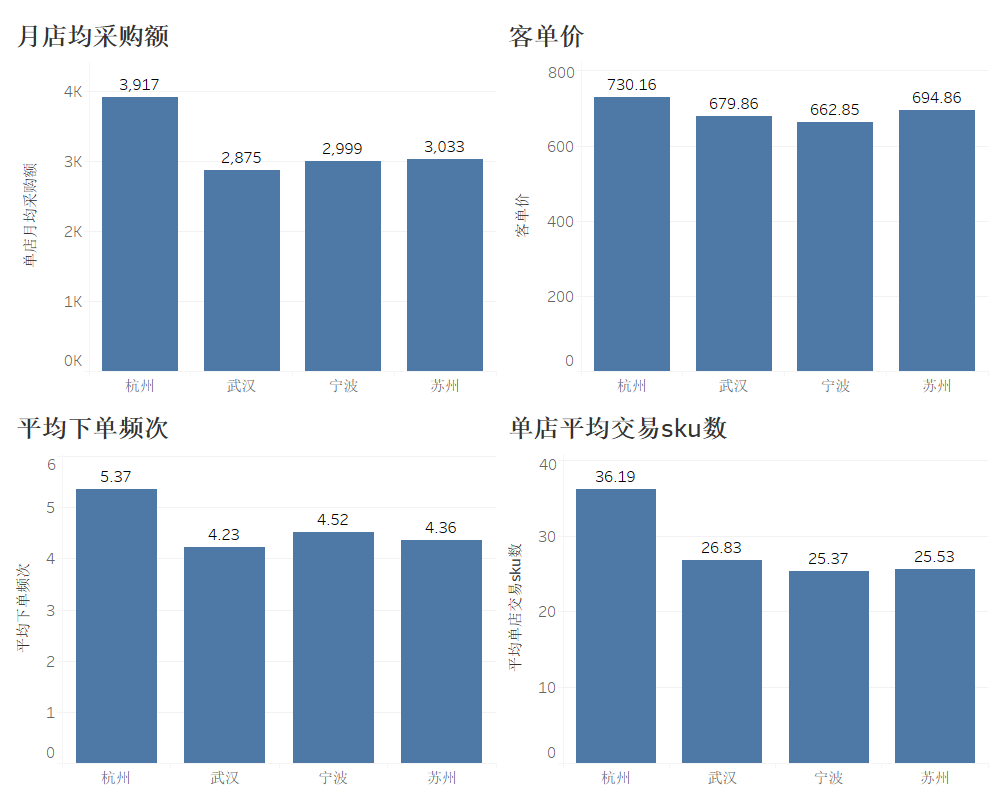

The page's visual inventory and layout, read from the dashboard file:
{"tool":"tableau","page":{"name":"总览","canvas":[1000,800],"ordinal":3},"visuals":[{"type":"worksheet","title":"总览-月店均采购额","mark":"Automatic","rows":["单店月均采购额"],"cols":["城市"],"box":[8,8,492,392]},{"type":"worksheet","title":"总览-客单价","mark":"Automatic","rows":["客单价"],"cols":["城市"],"box":[500,8,492,392]},{"type":"worksheet","title":"总览-平均下单频次","mark":"Automatic","rows":["平均下单频次"],"cols":["城市"],"box":[8,400,492,392]},{"type":"worksheet","title":"总览-交易sku数","mark":"Automatic","rows":["平均单店交易sku数"],"cols":["城市"],"box":[500,400,492,392]}]}

Visuals, with their boxes in screenshot pixels (x1, y1, x2, y2), scaled from the page's 1000x800 canvas onto the 1000x800 screenshot:
"总览-月店均采购额" worksheet: BBox(8, 8, 500, 400)
"总览-客单价" worksheet: BBox(500, 8, 992, 400)
"总览-平均下单频次" worksheet: BBox(8, 400, 500, 792)
"总览-交易sku数" worksheet: BBox(500, 400, 992, 792)
